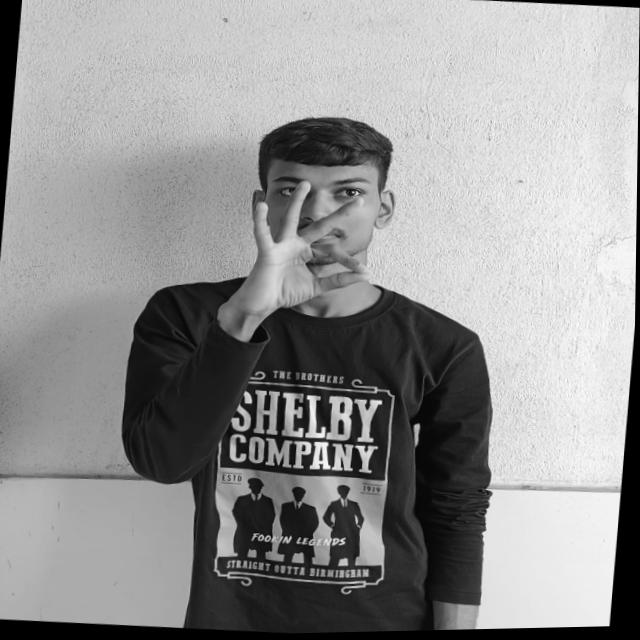Superb: (238, 176, 383, 312)
